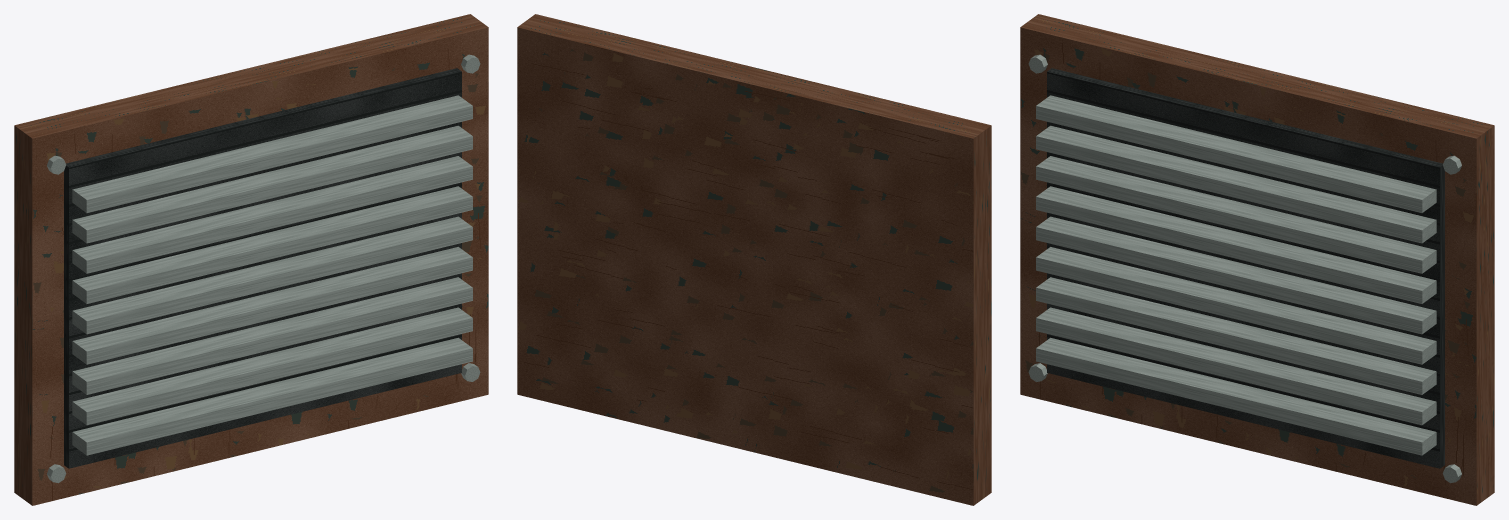
Rendered from VentCover.obj.
The picture shows the model from 3 angles, left to right: view 1: azimuth 30°, elevation 25°; view 2: azimuth 150°, elevation 25°; view 3: azimuth 330°, elevation 25°; orthographic projection.
Parts seen in each view (by area): view 1: VentCover; view 2: VentCover; view 3: VentCover.
Part boxes in pixels (bbox=[...]): VentCover: bbox=[14, 14, 488, 505]; VentCover: bbox=[517, 14, 991, 505]; VentCover: bbox=[1020, 14, 1494, 505].
Bounding box in the file's own units: 0.65 × 0.5 × 0.0925.
3 materials, 3 textured.
